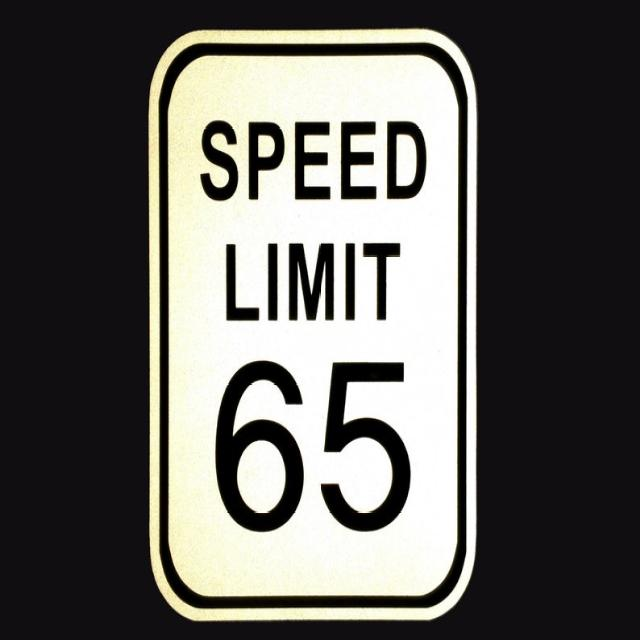speedLimit65: (146, 29, 474, 616)
